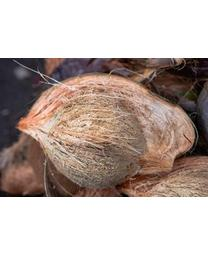coconut: (22, 73, 195, 186)
